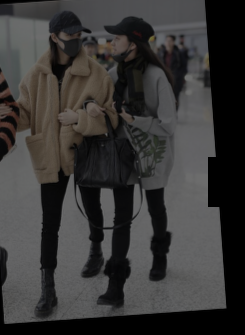mask_weared_incorrect: (108, 32, 131, 59)
with_mask: (55, 29, 83, 56)
